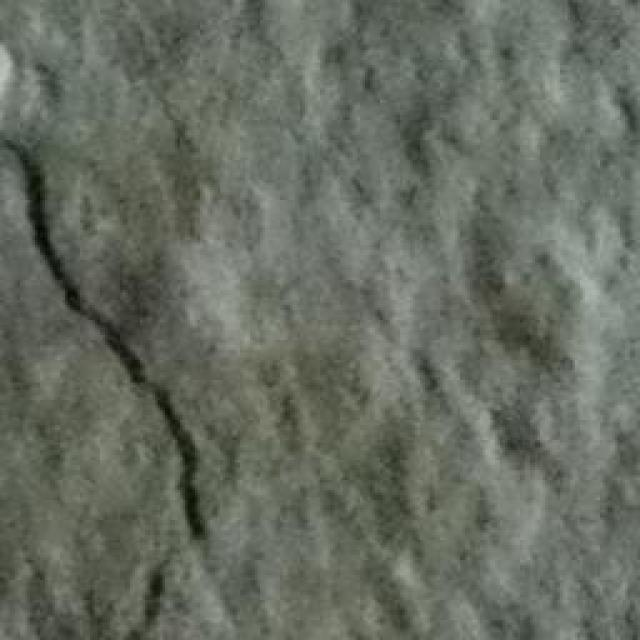Longitudinal: (0, 93, 215, 640)
Rippled: (227, 0, 640, 640)
